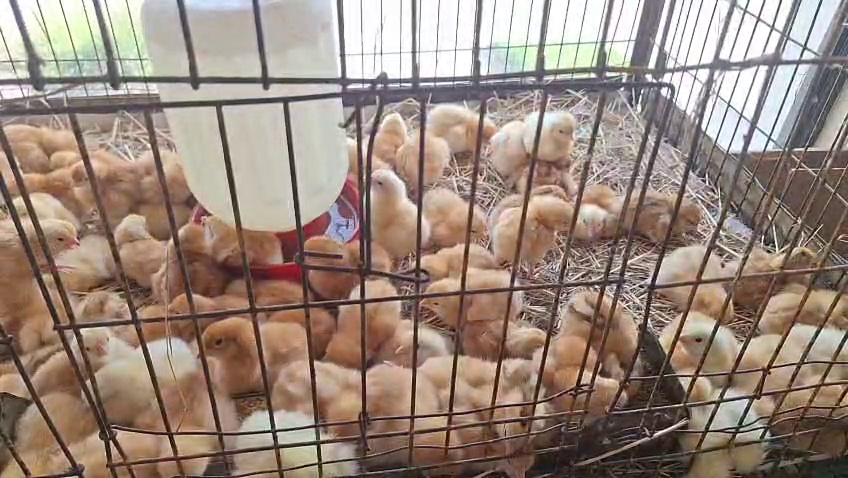Pollo: (353, 357, 459, 461), (545, 292, 655, 390), (208, 317, 321, 402), (674, 378, 771, 476), (157, 334, 221, 477), (421, 348, 500, 459), (236, 410, 366, 474), (93, 335, 186, 422), (642, 249, 743, 327), (328, 266, 397, 380), (267, 361, 376, 432), (484, 191, 575, 275), (354, 167, 432, 262), (540, 332, 626, 418), (9, 388, 88, 478), (478, 353, 551, 445), (416, 265, 527, 325), (772, 378, 848, 464), (296, 228, 398, 291), (658, 304, 737, 384), (720, 237, 820, 300), (106, 138, 200, 205), (198, 211, 287, 281), (153, 217, 225, 298), (757, 270, 848, 334), (74, 425, 179, 477), (626, 180, 705, 247), (463, 311, 548, 371), (3, 216, 83, 279), (102, 211, 178, 276), (410, 187, 485, 251), (157, 289, 267, 331), (3, 278, 63, 355), (738, 332, 809, 397), (780, 321, 847, 387), (419, 99, 497, 154), (561, 183, 626, 247), (389, 125, 453, 188), (70, 156, 136, 217), (414, 235, 497, 283), (6, 188, 83, 239), (52, 226, 105, 294), (6, 114, 72, 168), (273, 292, 339, 346), (523, 102, 581, 163), (378, 319, 446, 368), (61, 293, 136, 335), (22, 351, 97, 392), (491, 111, 533, 181), (60, 324, 135, 363), (520, 154, 579, 199), (369, 109, 408, 166), (490, 449, 549, 477), (490, 185, 580, 202)
